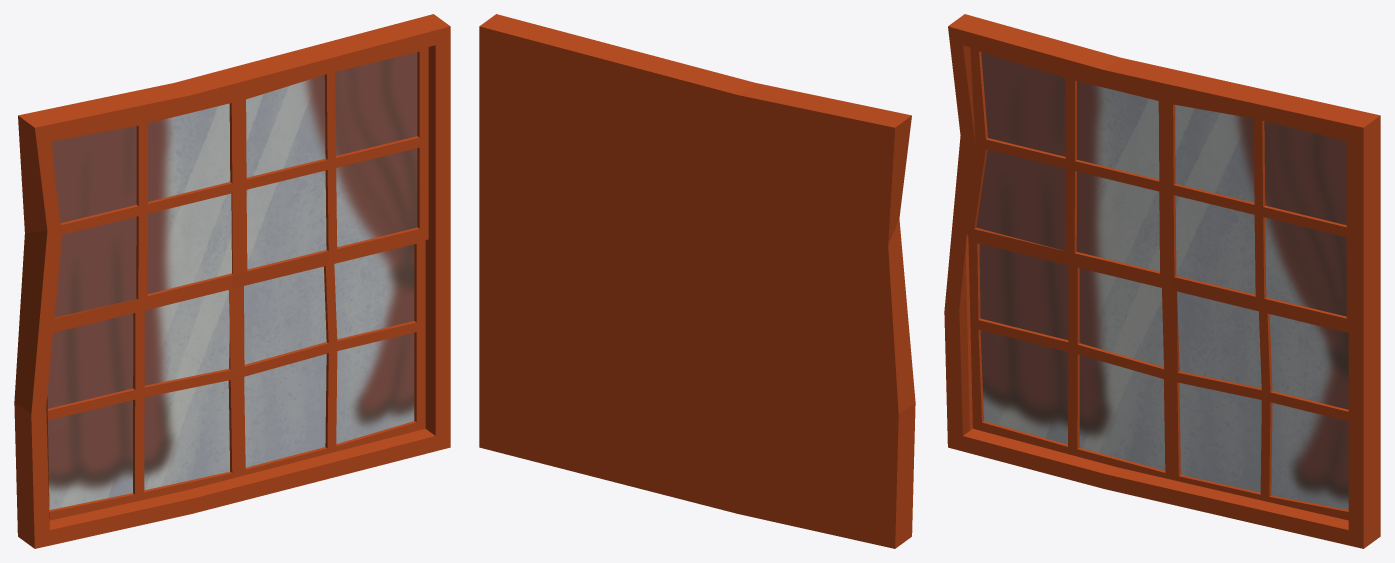
File: Window6.fbx
The picture shows the model from 3 angles, left to right: view 1: azimuth 30°, elevation 25°; view 2: azimuth 150°, elevation 25°; view 3: azimuth 330°, elevation 25°; orthographic projection.
Visible parts, largest first — view 1: Cube.076; view 2: Cube.076; view 3: Cube.076.
Part boxes in pixels (bbox=[...]): Cube.076: bbox=[14, 14, 450, 548]; Cube.076: bbox=[479, 14, 915, 548]; Cube.076: bbox=[944, 14, 1380, 548].
Size of the model in its own units: 175 by 169 by 12.18.
